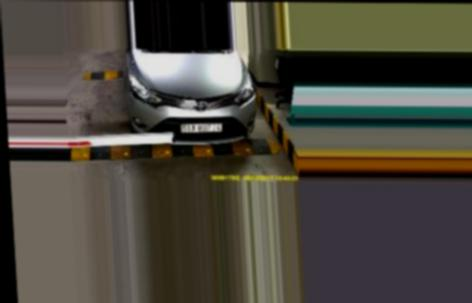License_Plate: (180, 118, 224, 133)
